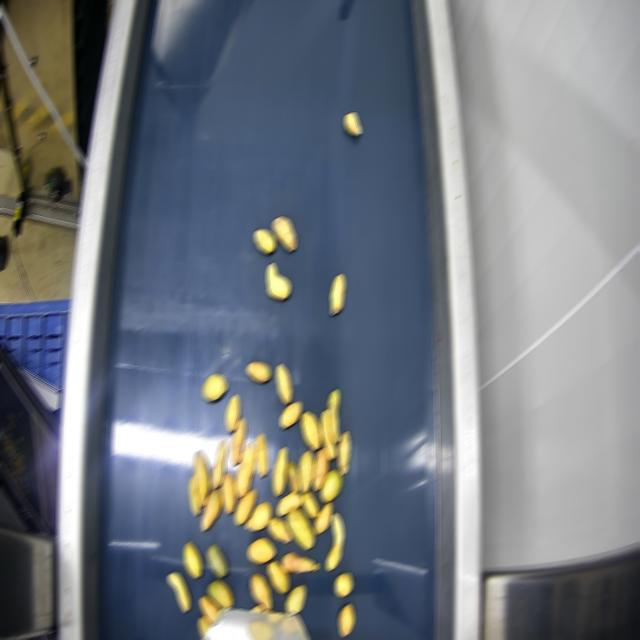Baby Potato: (287, 507, 314, 549), (236, 444, 255, 497), (326, 513, 343, 570), (201, 489, 222, 530), (194, 451, 209, 506), (168, 572, 189, 611), (268, 263, 290, 299), (272, 217, 295, 251), (250, 574, 271, 610), (281, 552, 318, 572), (235, 490, 256, 525), (211, 440, 226, 489), (320, 410, 335, 459), (301, 412, 320, 449), (230, 418, 245, 464), (247, 538, 274, 563), (247, 502, 271, 530), (207, 544, 227, 577), (207, 581, 232, 607), (313, 448, 328, 491), (322, 470, 342, 502), (269, 561, 289, 593), (203, 374, 226, 401), (221, 472, 236, 513), (276, 364, 291, 404), (276, 492, 301, 516), (273, 449, 286, 495), (184, 542, 201, 577), (268, 518, 291, 543), (300, 451, 314, 492), (328, 390, 339, 442), (286, 585, 305, 614), (280, 402, 301, 428), (314, 504, 331, 535), (331, 274, 344, 314), (200, 596, 219, 623), (254, 230, 275, 254), (256, 433, 267, 477), (247, 362, 270, 383), (226, 395, 239, 432), (338, 604, 353, 636), (338, 432, 349, 475), (285, 461, 300, 492), (189, 475, 200, 515), (302, 492, 318, 518), (335, 573, 352, 597), (345, 112, 360, 135), (199, 616, 210, 637), (251, 605, 264, 612)
